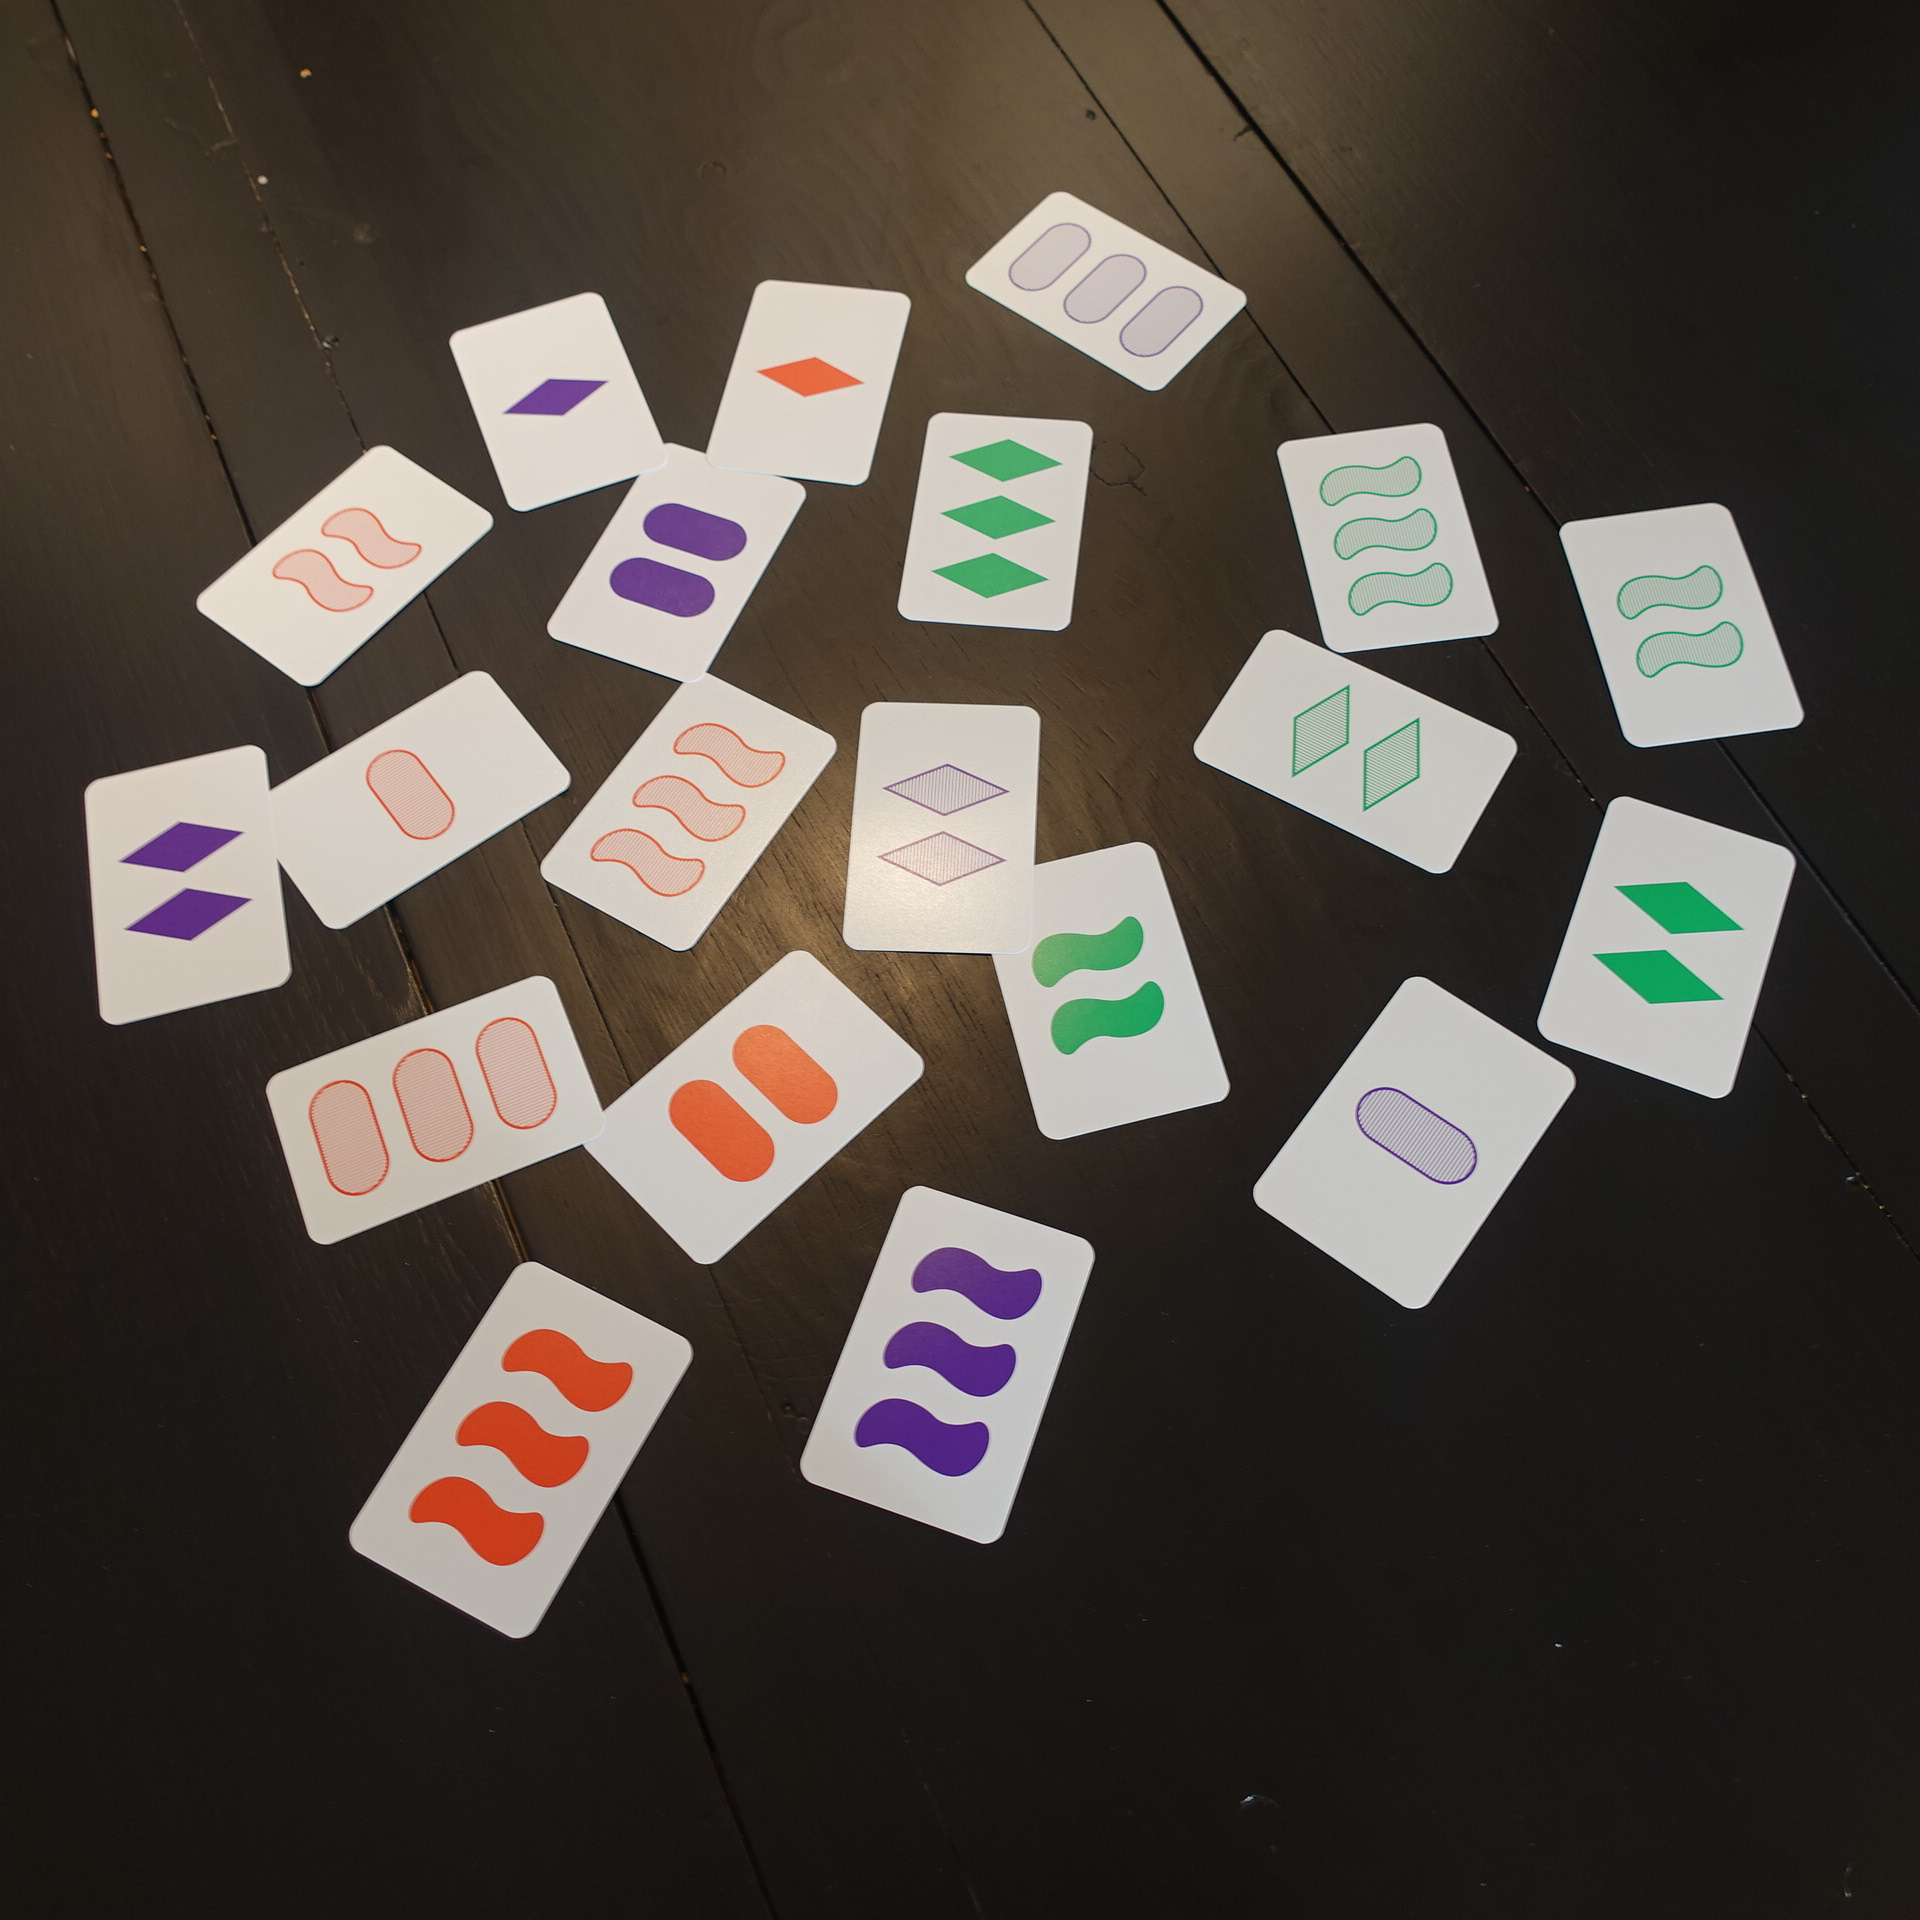c-1-f-d-p: (429, 283, 673, 520)
c-1-f-d-r: (696, 269, 925, 499)
c-1-h-o-p: (1231, 958, 1584, 1322)
c-1-h-o-r: (250, 652, 580, 941)
c-2-f-d-g: (1519, 782, 1809, 1108), (972, 832, 1241, 1153)
c-2-f-d-p: (53, 730, 301, 1041)
c-2-f-o-p: (538, 425, 816, 696)
c-2-f-o-r: (570, 939, 944, 1275)
c-2-h-d-g: (1182, 614, 1533, 884), (1544, 485, 1816, 761)
c-2-h-d-p: (812, 687, 1060, 969)
c-2-h-d-r: (169, 424, 498, 695)
c-3-f-d-g: (891, 397, 1113, 652)
c-3-f-d-p: (782, 1178, 1102, 1554)
c-3-f-d-r: (332, 1245, 705, 1651)
c-3-h-d-g: (1261, 411, 1510, 666)
c-3-h-d-r: (535, 654, 853, 962)
c-3-h-o-p: (939, 183, 1262, 401)
c-3-h-o-r: (257, 969, 617, 1254)
